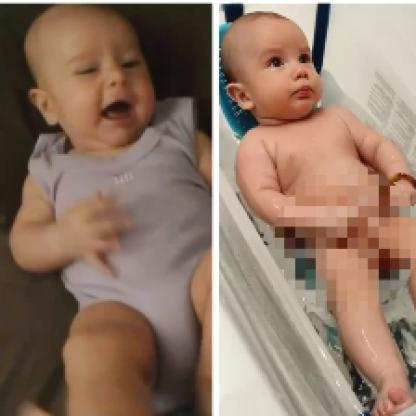child: (10, 5, 215, 416), (224, 10, 415, 415)
